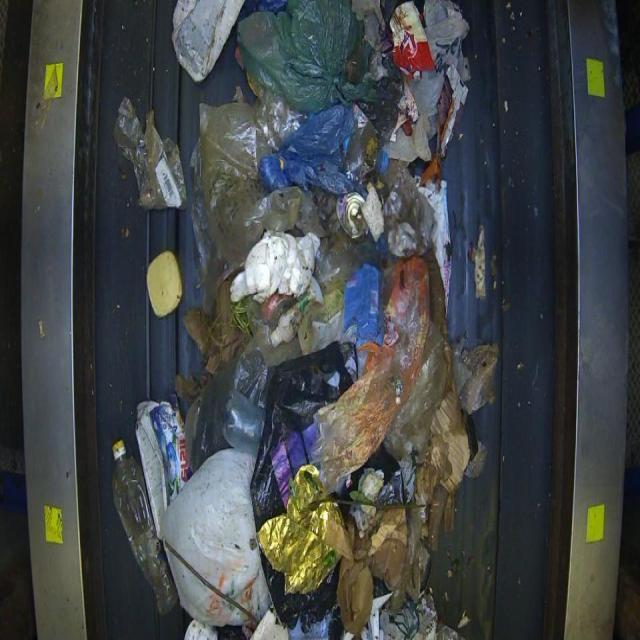organic-waste: (110, 0, 495, 638)
